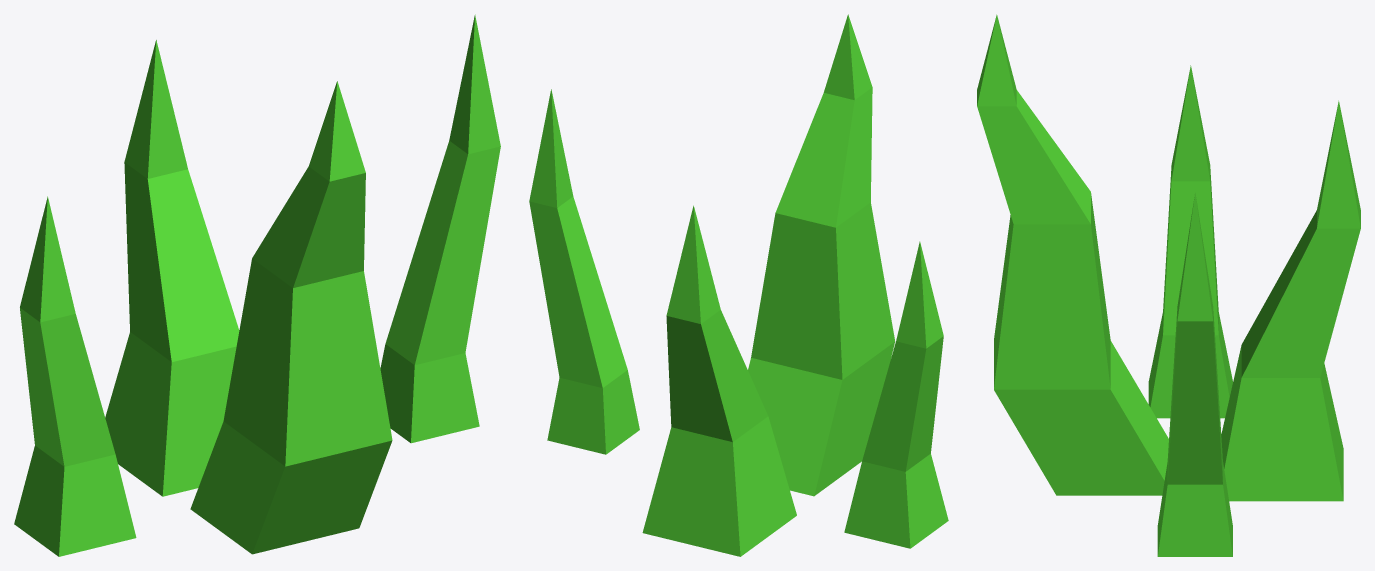
Rendered from Grass_1.fbx.
3 renders of one model, left to right at view 1: azimuth 30°, elevation 25°; view 2: azimuth 150°, elevation 25°; view 3: azimuth 270°, elevation 25°, orthographic. The views are drawn at different scales.
Visible parts, largest first — view 1: Cube; view 2: Cube; view 3: Cube.
Boxes of the visible parts, bbox=[...] form: Cube: bbox=[14, 14, 500, 556]; Cube: bbox=[529, 14, 948, 556]; Cube: bbox=[977, 14, 1360, 556].
Bounding box in the file's own units: 95.84 × 96.36 × 72.73.
